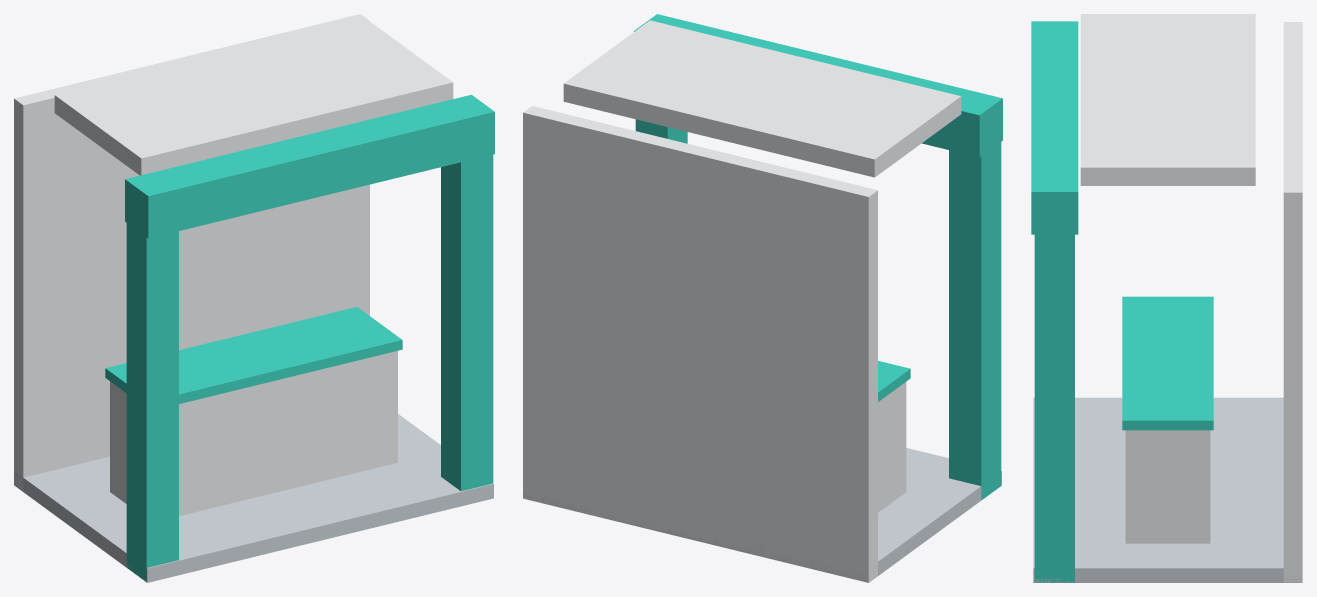
3 views of the same model, side by side, from view 1: azimuth 30°, elevation 25°; view 2: azimuth 150°, elevation 25°; view 3: azimuth 270°, elevation 25° (orthographic).
Visible parts, largest first — view 1: Exhibition Booth Concept; view 2: Exhibition Booth Concept; view 3: Exhibition Booth Concept.
Boxes of the visible parts, x1,y1,x2,y2 form: Exhibition Booth Concept: [14, 14, 494, 582]; Exhibition Booth Concept: [523, 14, 1002, 582]; Exhibition Booth Concept: [1031, 14, 1302, 582].
Size of the model in its own units: 3 by 3.34 by 2.01.
